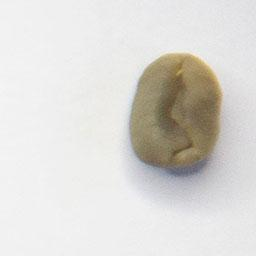peaberry: (125, 47, 225, 173)
